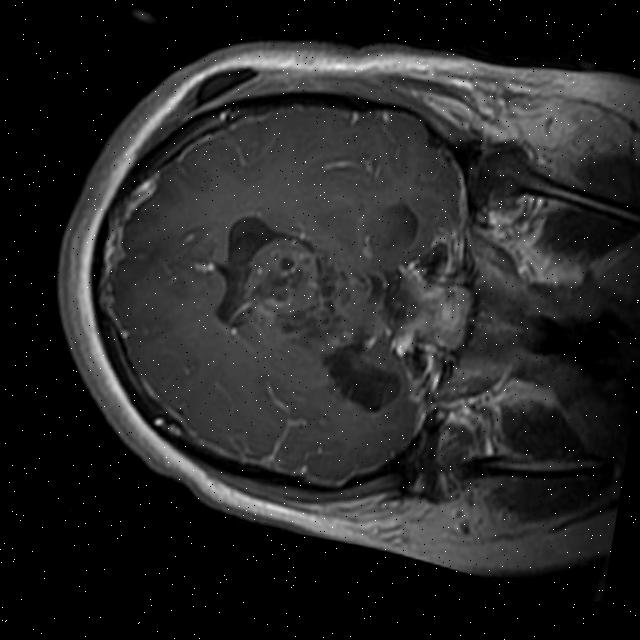Glioma: (234, 229, 356, 349)
Pituitary: (407, 275, 475, 354)
